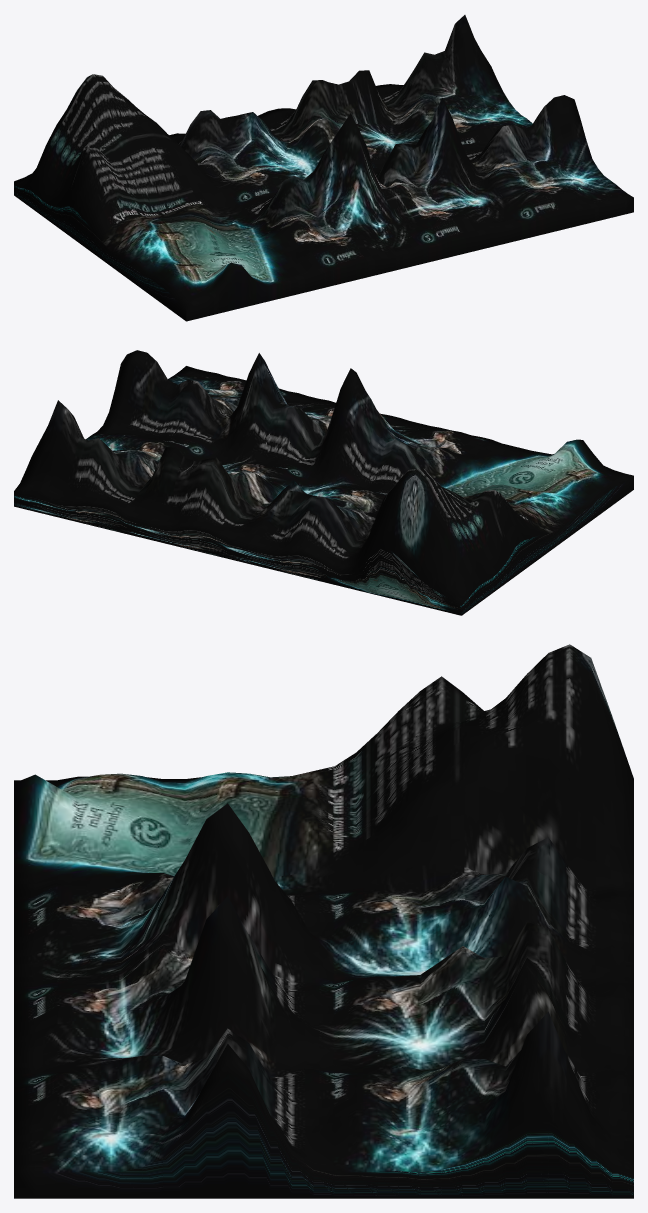
File: CUL_15_Palm_Zhang.glb
3 views of the same model, one above another, from view 1: azimuth 30°, elevation 25°; view 2: azimuth 150°, elevation 25°; view 3: azimuth 270°, elevation 25° (orthographic). The views are drawn at different scales.
Parts seen in each view (by area): view 1: CUL_15_Palm_Zhang; view 2: CUL_15_Palm_Zhang; view 3: CUL_15_Palm_Zhang.
Boxes of the visible parts, <box> form: CUL_15_Palm_Zhang: <box>14,15,633,321</box>; CUL_15_Palm_Zhang: <box>14,350,633,615</box>; CUL_15_Palm_Zhang: <box>14,644,633,1198</box>.
Bounding box in the file's own units: 2 × 0.51 × 1.33.
1 material, 1 textured.
